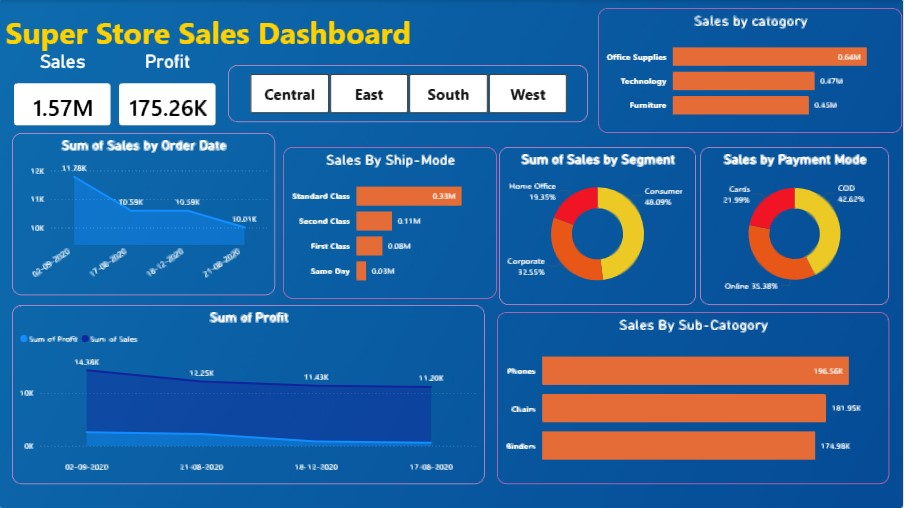

Layout of this report page (visuals, bound fields, positions):
{"tool":"powerbi","page":{"name":"Page 1","canvas":[1280,720],"ordinal":0},"visuals":[{"type":"clusteredBarChart","title":"Sales by catogory","fields":{"Category":["SuperStore_Sales_Dataset.Category"],"Y":["Sum(SuperStore_Sales_Dataset.Sales)"]},"box":[849,11.3,430.9,177.2],"z":0},{"type":"clusteredBarChart","title":"Sales By Sub-Catogory","fields":{"Category":["SuperStore_Sales_Dataset.Sub-Category"],"Y":["Sum(SuperStore_Sales_Dataset.Sales)"]},"box":[705.8,442.2,555.6,243.8],"z":1000},{"type":"clusteredBarChart","title":"Sales By Ship-Mode","fields":{"Category":["SuperStore_Sales_Dataset.Ship Mode"],"Y":["Sum(SuperStore_Sales_Dataset.Sales)"]},"box":[402.5,208.3,303.3,215.4],"z":2000},{"type":"stackedAreaChart","fields":{"Category":["SuperStore_Sales_Dataset.Order Date"],"Y":["Sum(SuperStore_Sales_Dataset.Sales)"]},"box":[18.4,188.5,372.8,229.6],"z":3000},{"type":"stackedAreaChart","title":"Sum of Profit","fields":{"Category":["SuperStore_Sales_Dataset.Order Date"],"Y":["Sum(SuperStore_Sales_Dataset.Profit)","Sum(SuperStore_Sales_Dataset.Sales)"]},"box":[18.4,432.3,670.4,253.7],"z":4000},{"type":"donutChart","fields":{"Category":["SuperStore_Sales_Dataset.Segment"],"Y":["Sum(SuperStore_Sales_Dataset.Sales)"]},"box":[708.7,208.3,279.2,223.9],"z":5000},{"type":"donutChart","title":"Sales by Payment Mode","fields":{"Category":["SuperStore_Sales_Dataset.Payment Mode"],"Y":["Sum(SuperStore_Sales_Dataset.Sales)"]},"box":[993.5,208.3,267.9,223.9],"z":6000},{"type":"slicer","fields":{"Values":["SuperStore_Sales_Dataset.Region"]},"box":[324.6,92.1,510.2,80.8],"z":7000},{"type":"textbox","box":[4.3,11.3,942.5,70.9],"z":8000},{"type":"cardVisual","title":"Sales","fields":{"Data":["Sum(SuperStore_Sales_Dataset.Sales)"]},"box":[4.3,70.9,171.5,124.7],"z":9000},{"type":"cardVisual","title":"Profit","fields":{"Data":["Sum(SuperStore_Sales_Dataset.Profit)"]},"box":[153.1,70.9,171.5,124.7],"z":9001}]}

Visuals, with their boxes in screenshot pixels (x1, y1, x2, y2), scaled from the page's 1280x720 canvas onto the 904x508 screenshot:
"Sales by catogory" clusteredBarChart: detection(600, 8, 903, 133)
"Sales By Sub-Catogory" clusteredBarChart: detection(498, 312, 891, 484)
"Sales By Ship-Mode" clusteredBarChart: detection(284, 147, 498, 299)
stackedAreaChart - SuperStore_Sales_Dataset.Order Date x Sum(SuperStore_Sales_Dataset.Sales): detection(13, 133, 276, 295)
"Sum of Profit" stackedAreaChart: detection(13, 305, 486, 484)
donutChart - SuperStore_Sales_Dataset.Segment x Sum(SuperStore_Sales_Dataset.Sales): detection(501, 147, 698, 305)
"Sales by Payment Mode" donutChart: detection(702, 147, 891, 305)
slicer - SuperStore_Sales_Dataset.Region: detection(229, 65, 590, 122)
textbox: detection(3, 8, 669, 58)
"Sales" cardVisual: detection(3, 50, 124, 138)
"Profit" cardVisual: detection(108, 50, 229, 138)
